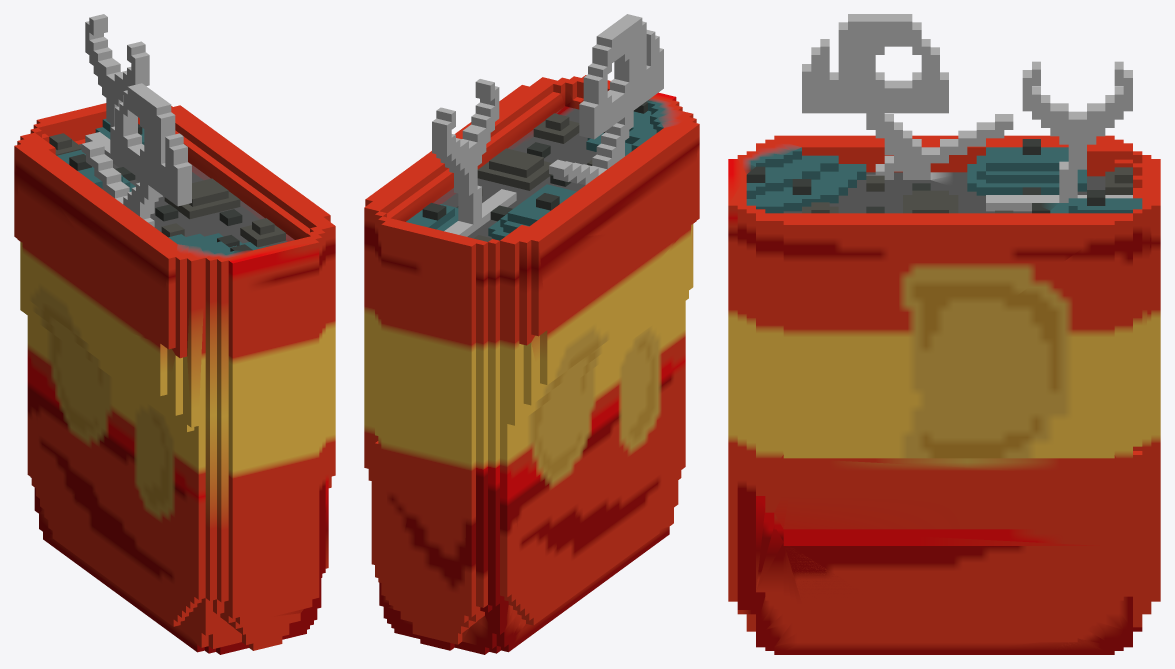
File: Modell_MuellTuete.dae
The picture shows the model from 3 angles, left to right: view 1: azimuth 30°, elevation 25°; view 2: azimuth 150°, elevation 25°; view 3: azimuth 270°, elevation 25°; orthographic projection. The views are drawn at different scales.
Parts seen in each view (by area): view 1: modell_muelltuete.tuete; view 2: modell_muelltuete.tuete; view 3: modell_muelltuete.tuete, modell_muelltuete.tuete.001.
Boxes of the visible parts, x1,y1,x2,y2 form: modell_muelltuete.tuete: (14, 14, 335, 654); modell_muelltuete.tuete: (364, 14, 699, 654); modell_muelltuete.tuete: (728, 14, 1160, 654); modell_muelltuete.tuete.001: (776, 546, 1113, 654).
Bounding box in the file's own units: 2.3 × 4.7 × 6.9.
1 material, 1 textured.
